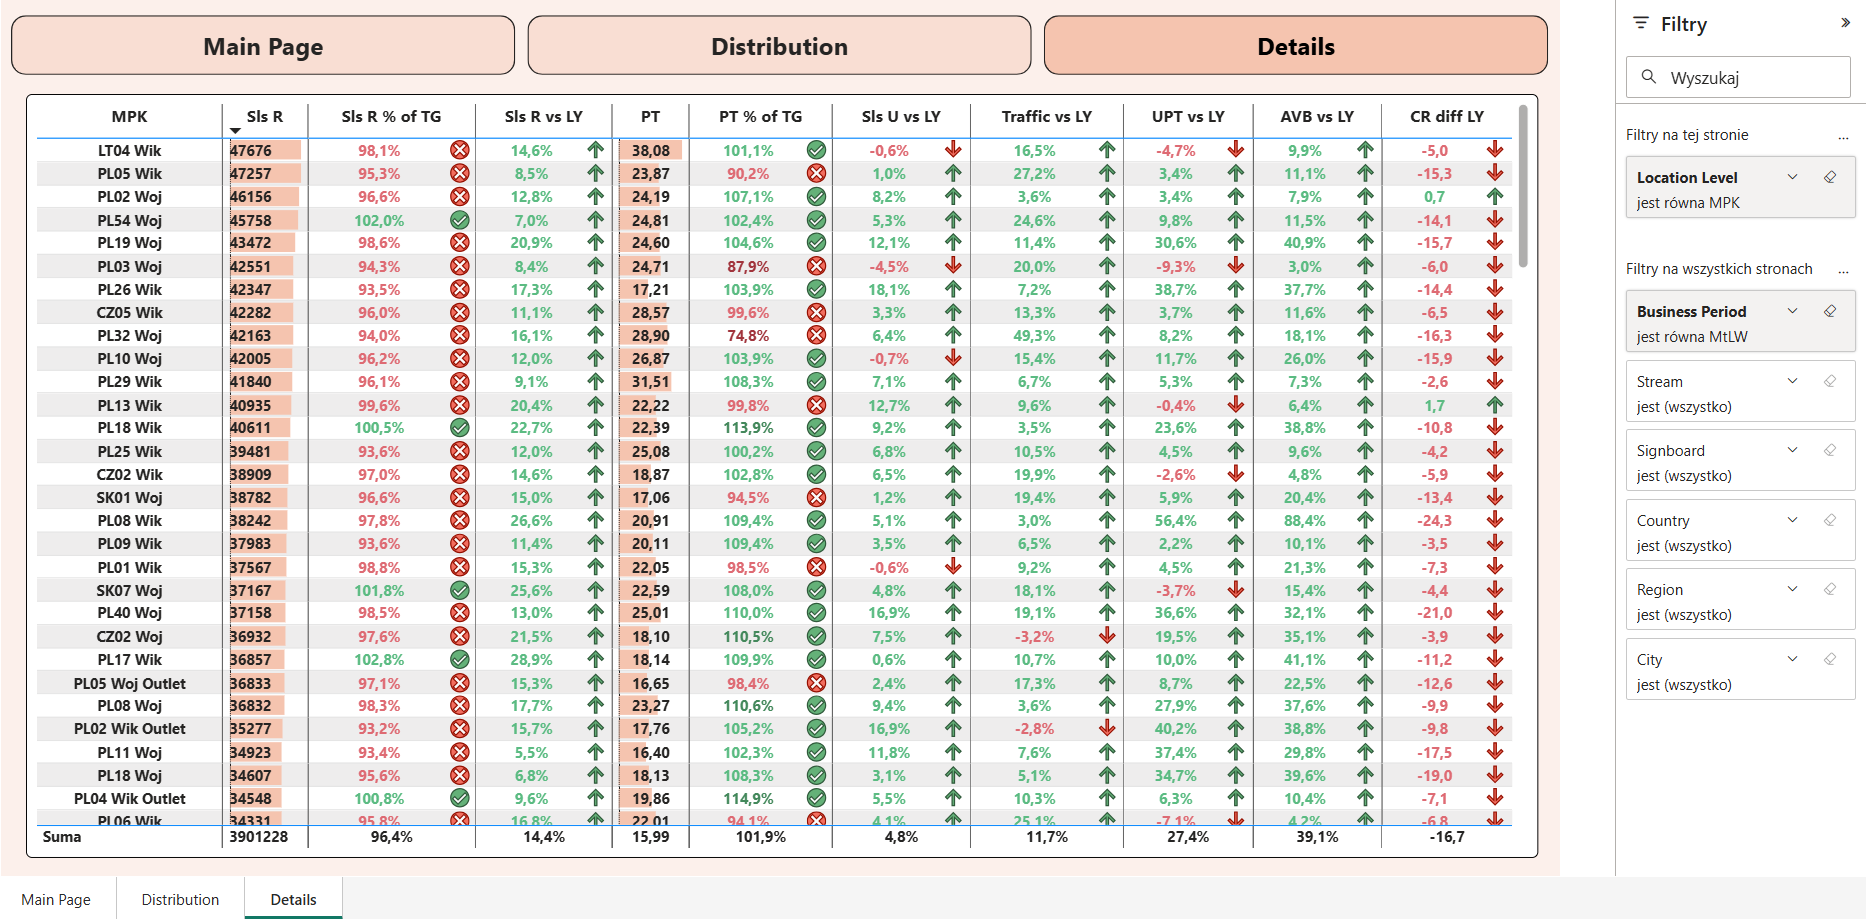

Layout of this report page (visuals, bound fields, positions):
{"tool":"powerbi","page":{"name":"Details","canvas":[1280,720],"ordinal":2},"visuals":[{"type":"tableEx","fields":{"Values":["corrected_sales_calendar.Store","Sum(corrected_sales_calendar.Sls R)","corrected_sales_calendar.Sls R % of TG","corrected_sales_calendar.Sls R vs LY","corrected_sales_calendar.PT","corrected_sales_calendar.PT % of TG","corrected_sales_calendar.Sls U vs LY","corrected_sales_calendar.Traffic vs LY","corrected_sales_calendar.UPT vs LY","corrected_sales_calendar.AVB vs LY","corrected_sales_calendar.CR diff LY"]},"box":[20.6,78.2,1241.9,627.1],"z":0},{"type":"pageNavigator","box":[8.2,13.7,1263.8,49.4],"z":1}]}

Visuals, with their boxes on the page's 1280x720 design canvas (x1, y1, x2, y2). These are canvas units, not pixel positions in the 1866x919 screenshot, which may show the page scaled, cropped or inside an application window:
tableEx - corrected_sales_calendar.Store x Sum(corrected_sales_calendar.Sls R): l=21, t=78, r=1262, b=705
pageNavigator: l=8, t=14, r=1272, b=63
